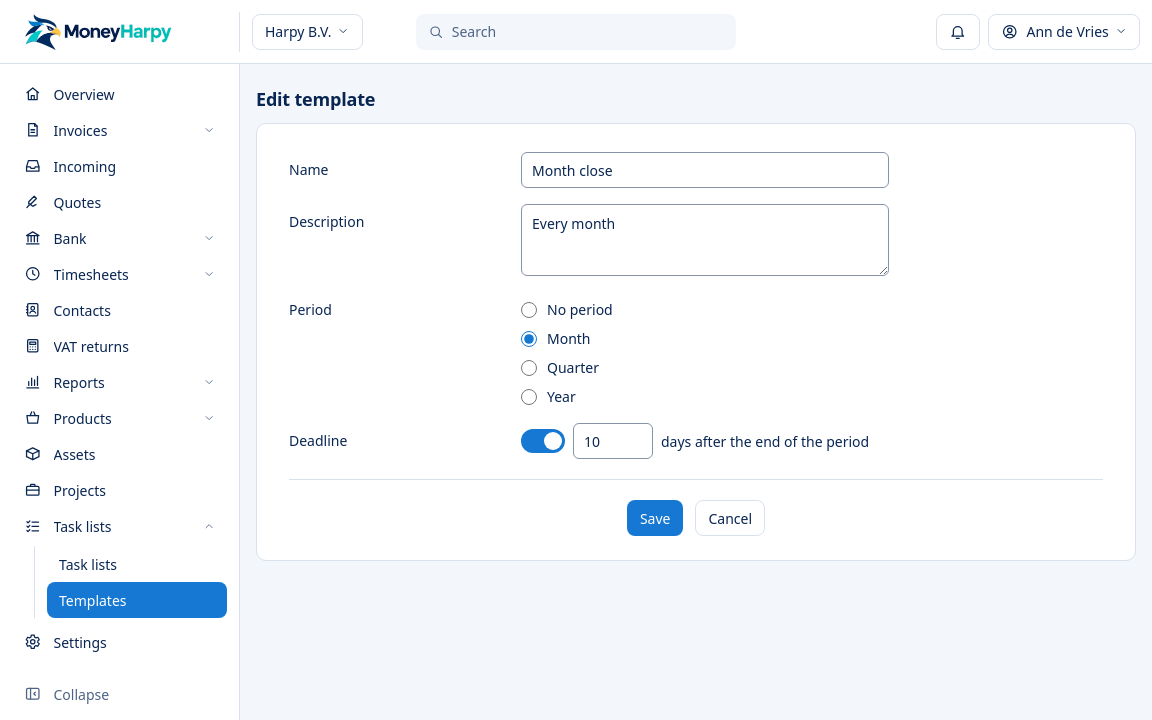
Test case: a template › edits its deadline away and is deleted
The width and height of the screenshot is (1152, 720).
expect the number field named "Days" holds "10": met, box x1=573 y1=423 x2=653 y2=459
Click the switch labelled "Deadline" at (543, 441), box x1=521 y1=429 x2=565 y2=453
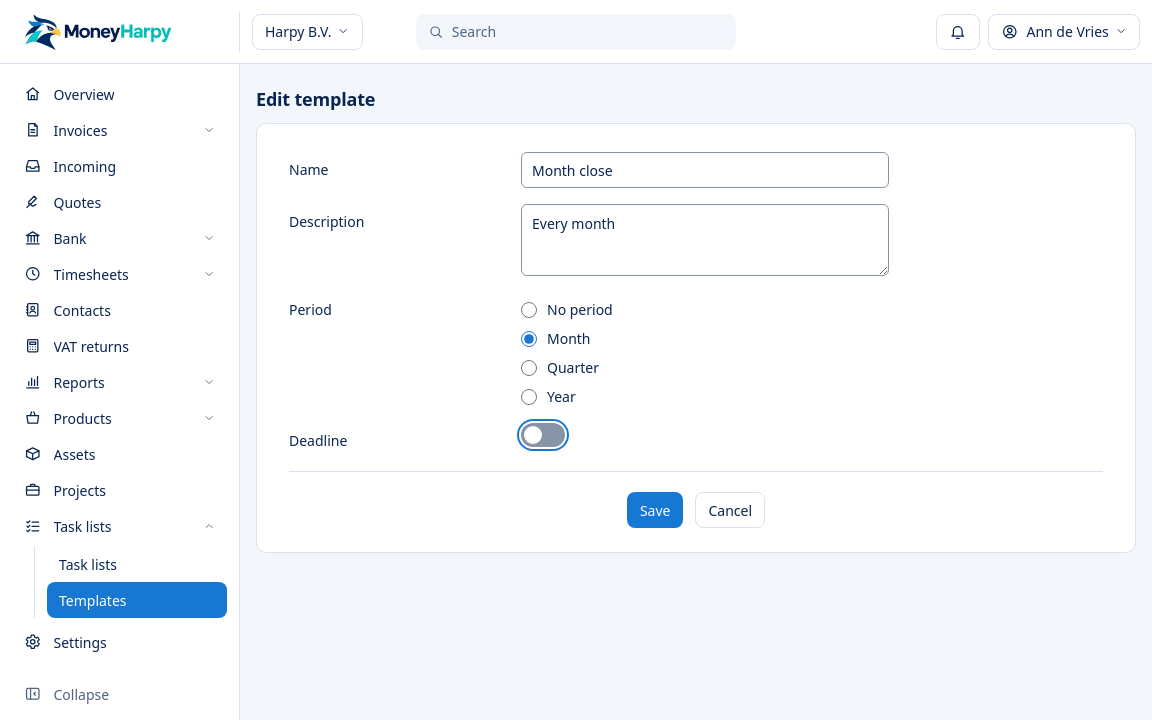
Click the button "Save" at (655, 510), box x1=627 y1=492 x2=684 y2=528
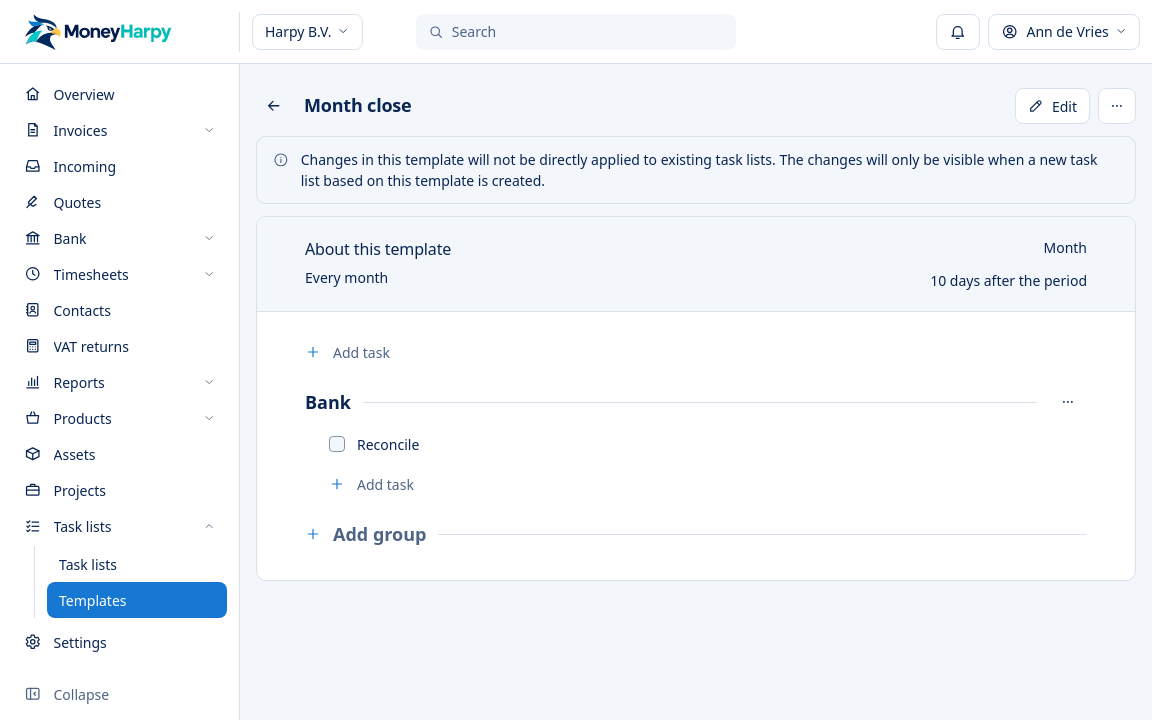
Click the button named "Template options" at (1117, 106), box x1=1098 y1=88 x2=1136 y2=124
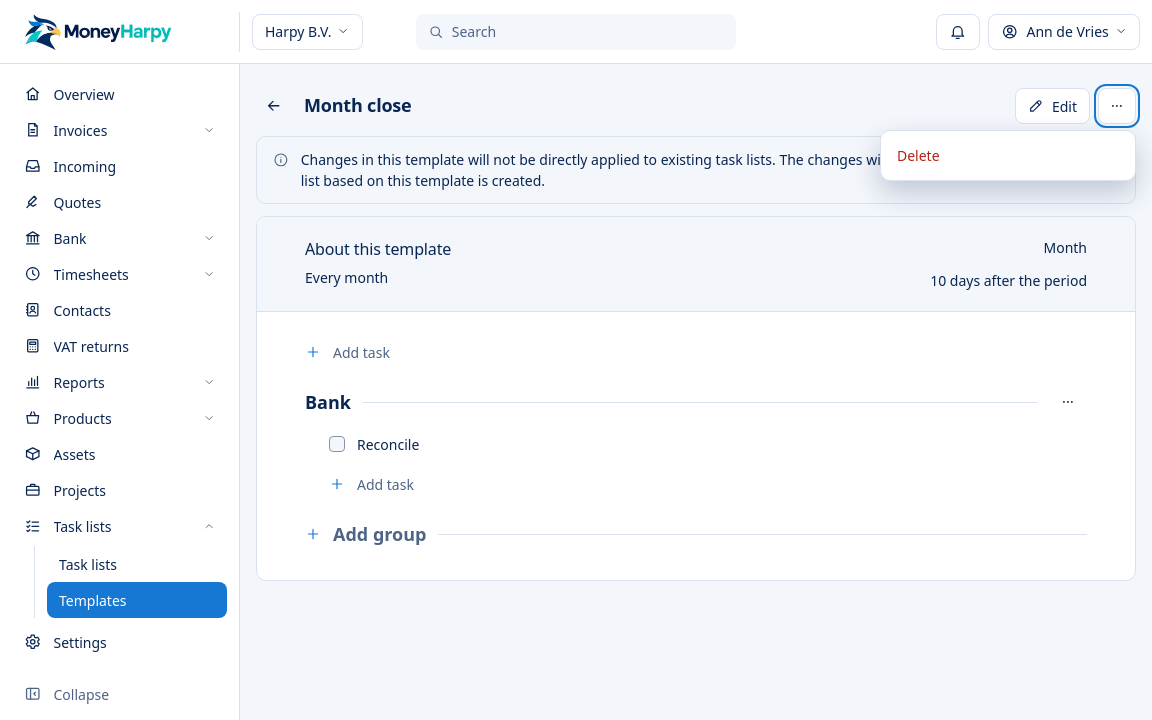
Click the button "Delete" at (1008, 156), box x1=887 y1=137 x2=1129 y2=174
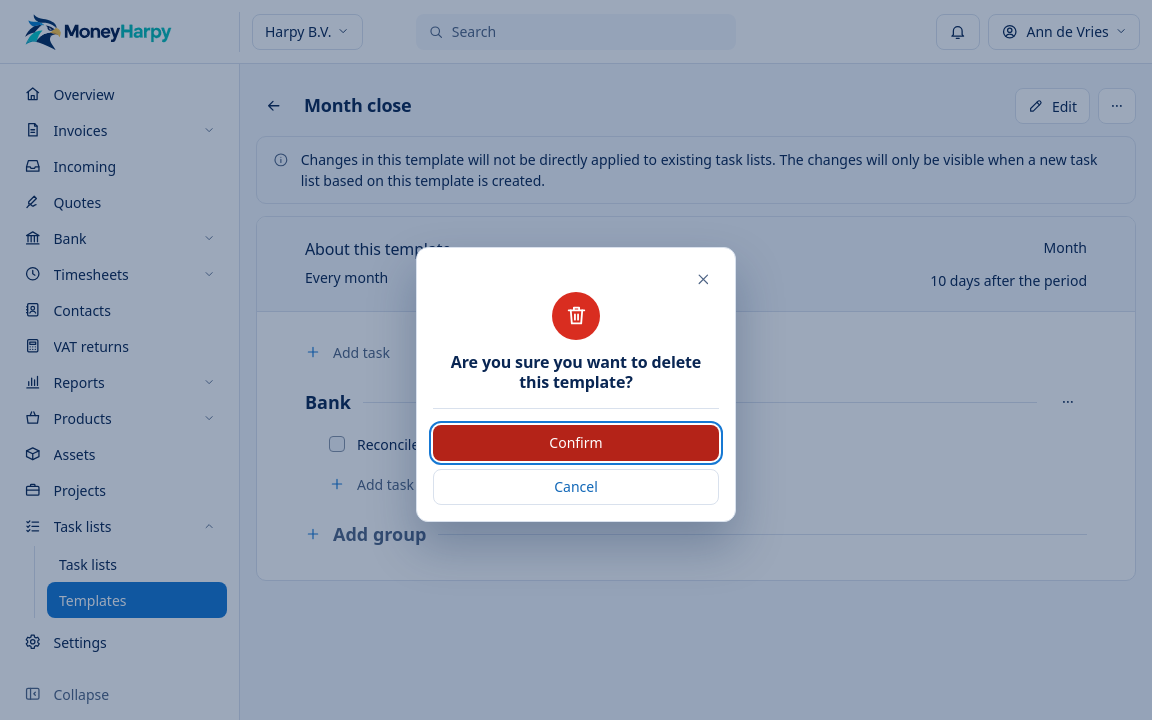
Click the button "Confirm" at (576, 442), box x1=433 y1=424 x2=719 y2=460
(page scrolled)
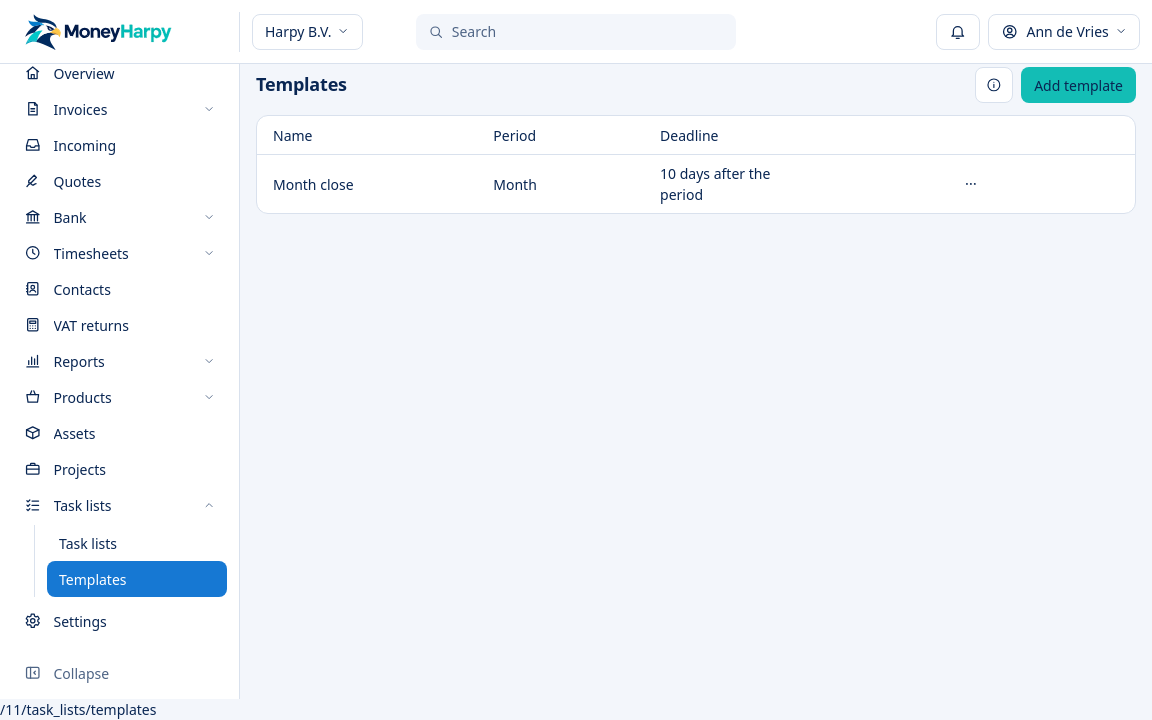
expect the text with test id "path" reads "/11/task_lists/templates": met, box x1=0 y1=700 x2=156 y2=719
